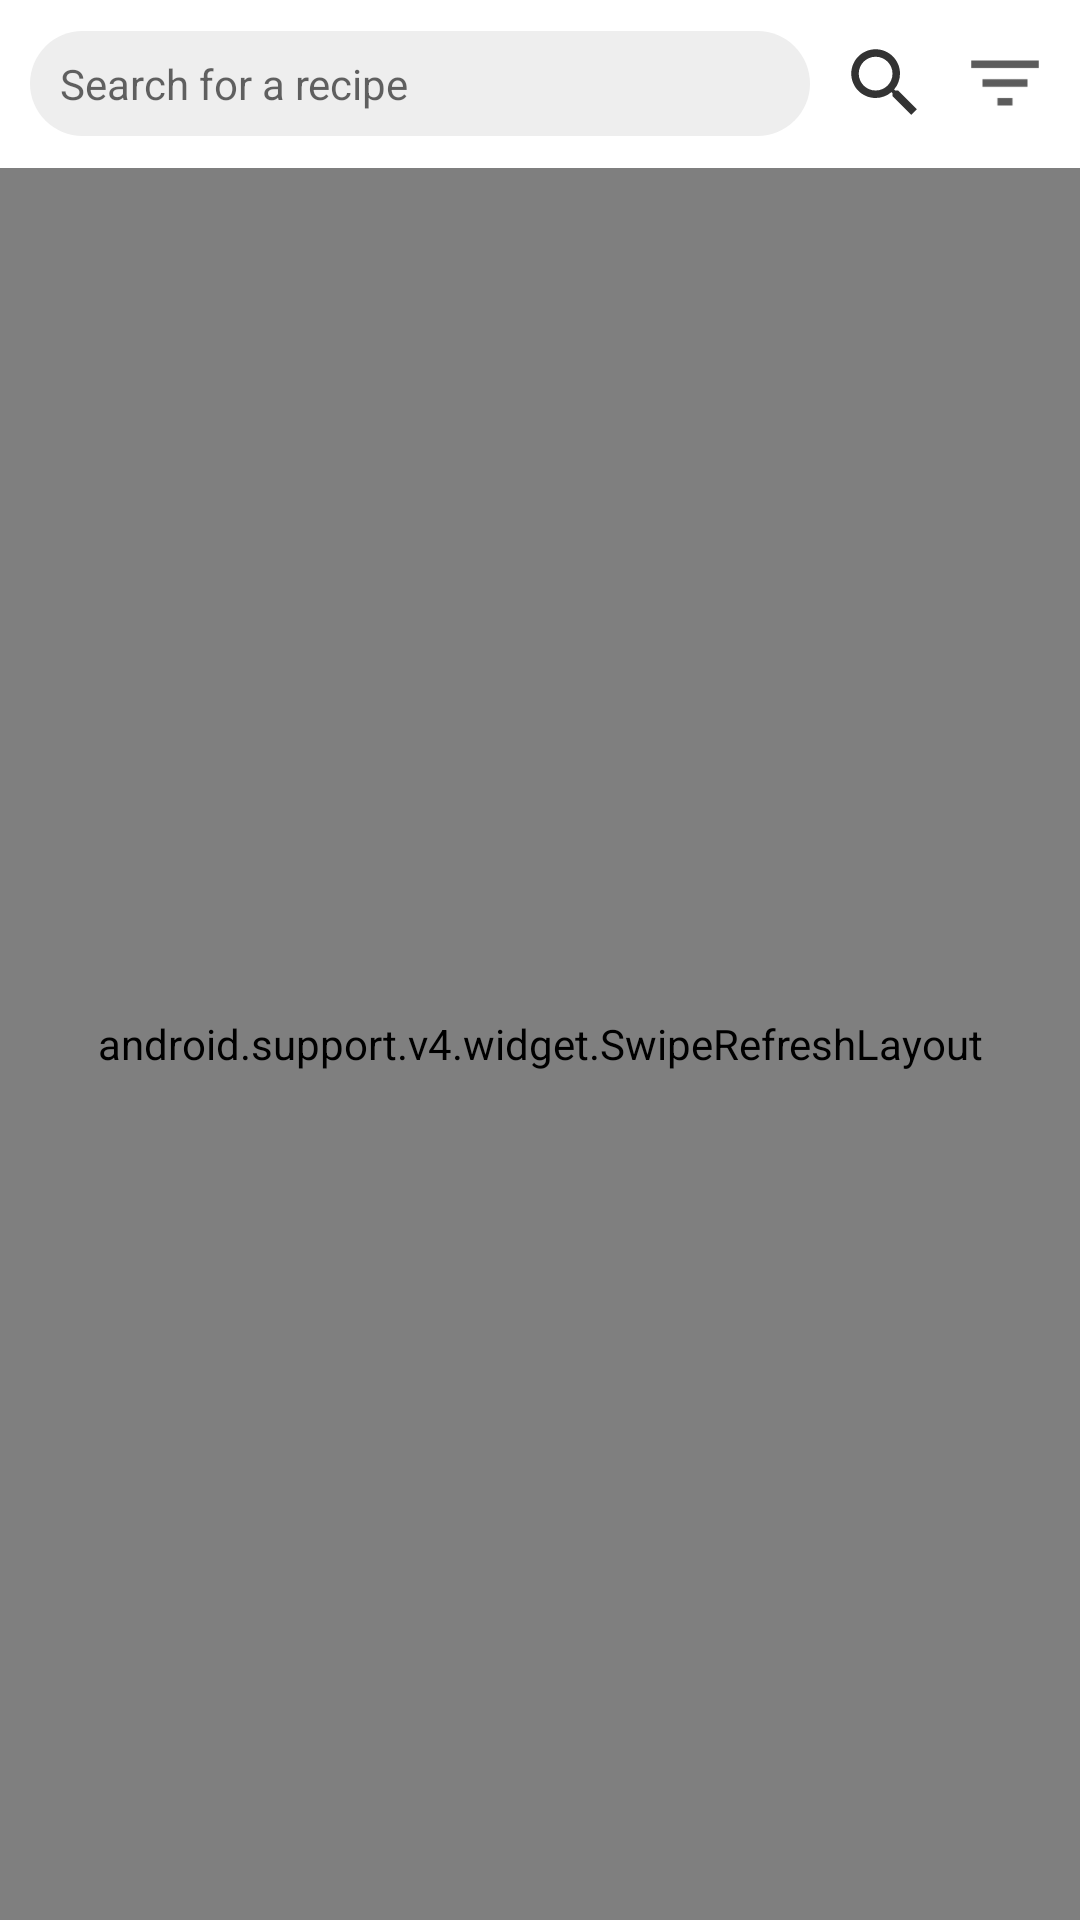

Point at icon controls on the screen. Image size 1080w x 1920h, points as point (x, y).
filter: point (1005, 83)
